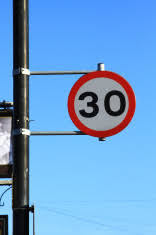Speed_limit_30km: (67, 71, 136, 137)
